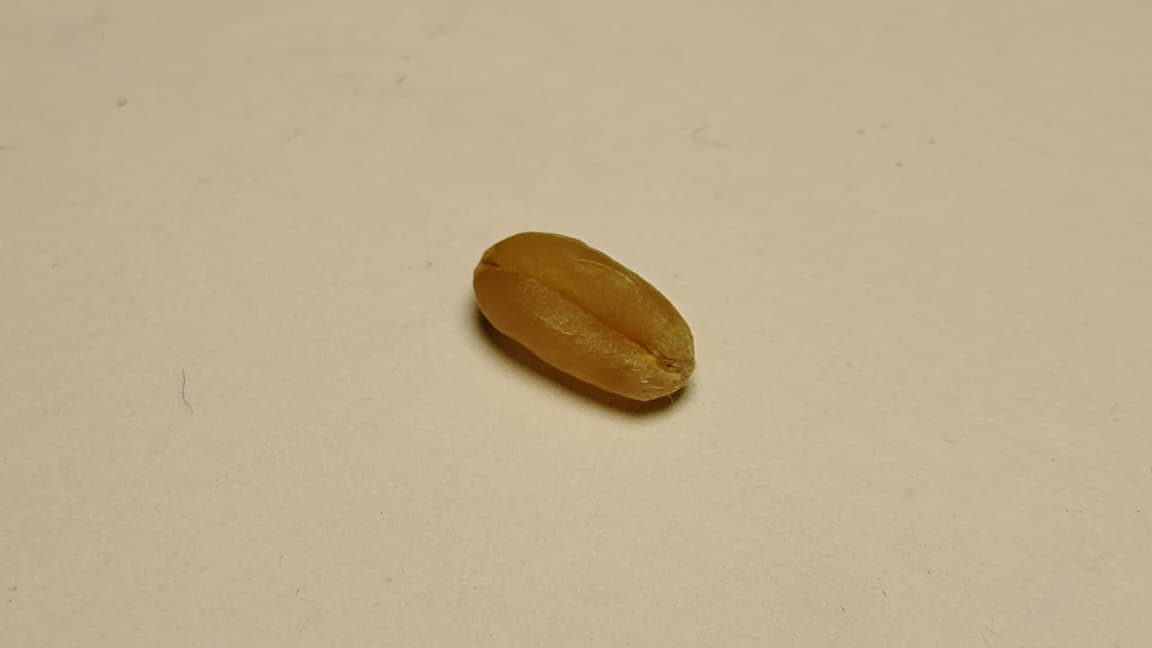healthy: (474, 236, 693, 399)
